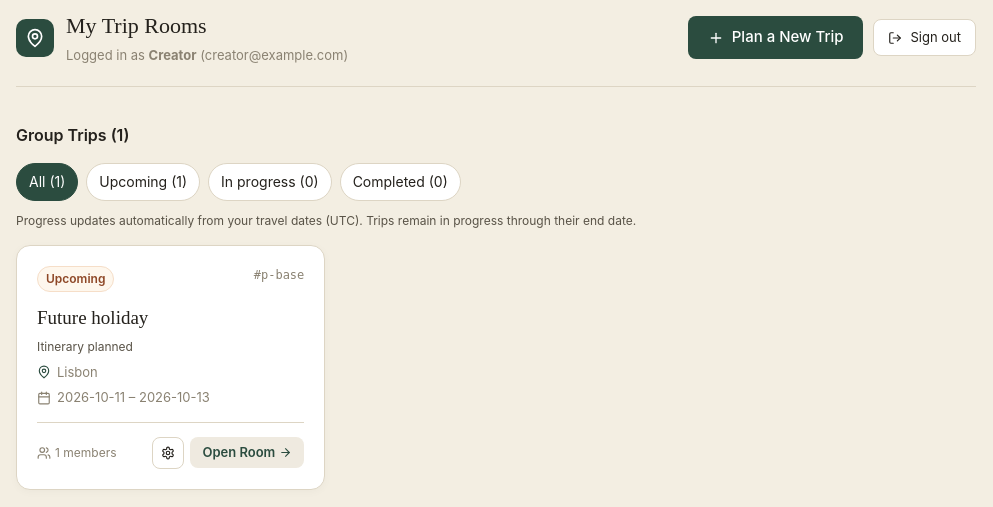
it: trip dashboard progress › shows a useful empty state for a filter without trips
This screenshot has width=993, height=507.
Click the button "Completed (0)" at point(400, 182), box [340,163,461,201]
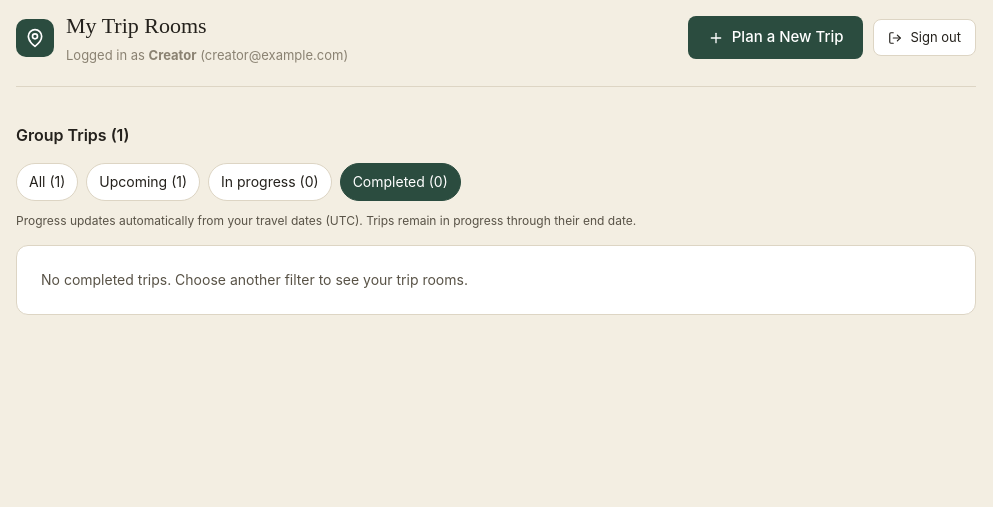
Expected: the message shows "No completed trips", [16,245,976,315]
